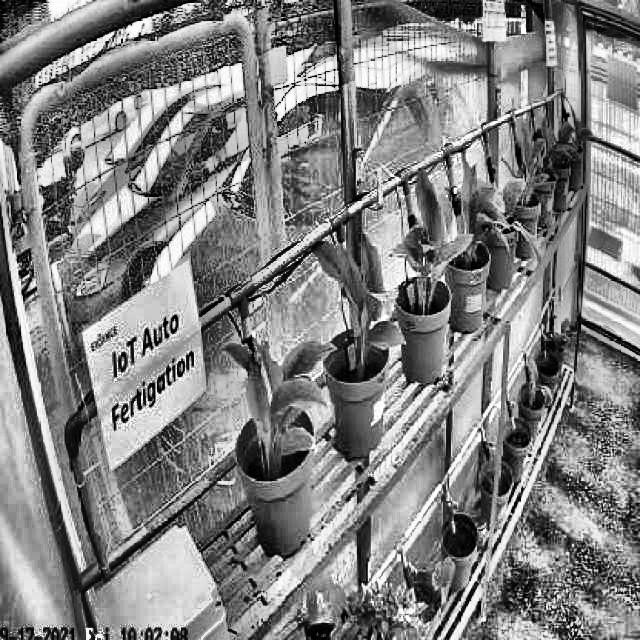plants: (227, 336, 336, 456), (310, 228, 406, 352), (392, 168, 468, 289), (456, 154, 509, 255), (516, 125, 549, 204)
